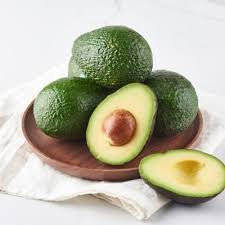avocado: (86, 83, 157, 166)
